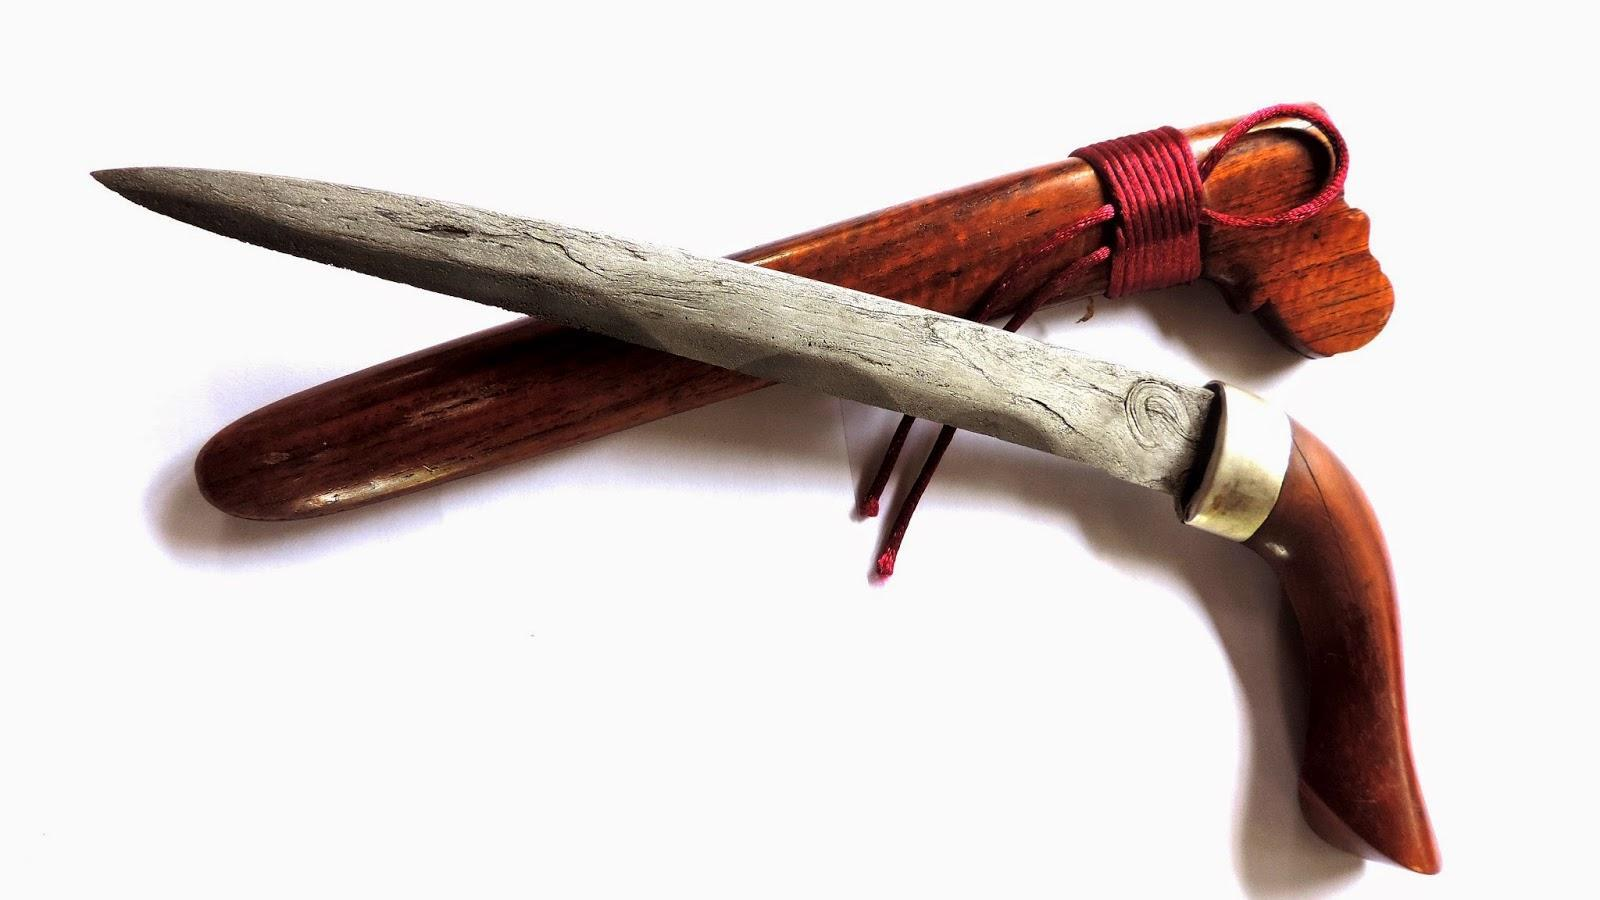facao: (100, 168, 1437, 871)
